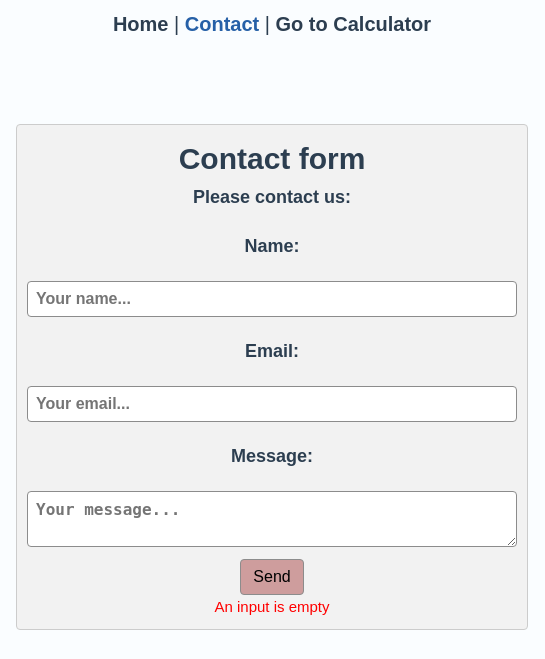
Test: Testing that form cannot send due to various factors › visits the contact view and inputs email on the wrong format -> displays correct error
Expected: the heading "Contact form" is shown, left=179, top=142, right=365, bottom=175
In the field with id "nameInput": point(272, 299) left=27, top=281, right=517, bottom=317, type "My First Post"
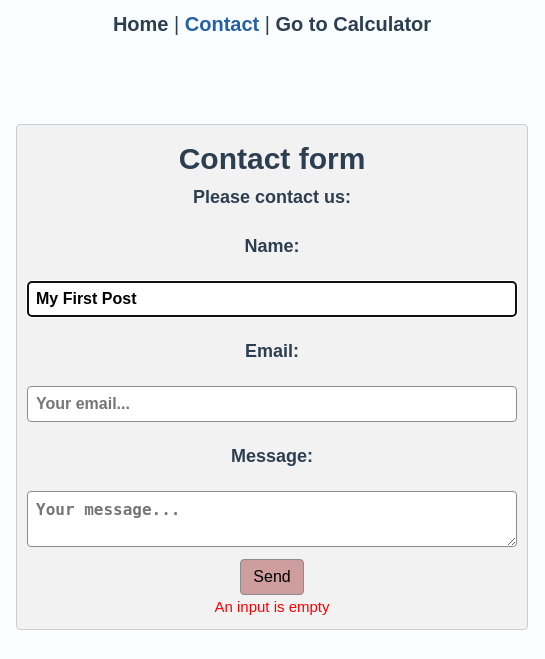
In the field with id "emailInput": point(272, 404) left=27, top=386, right=517, bottom=422, type "example@no"
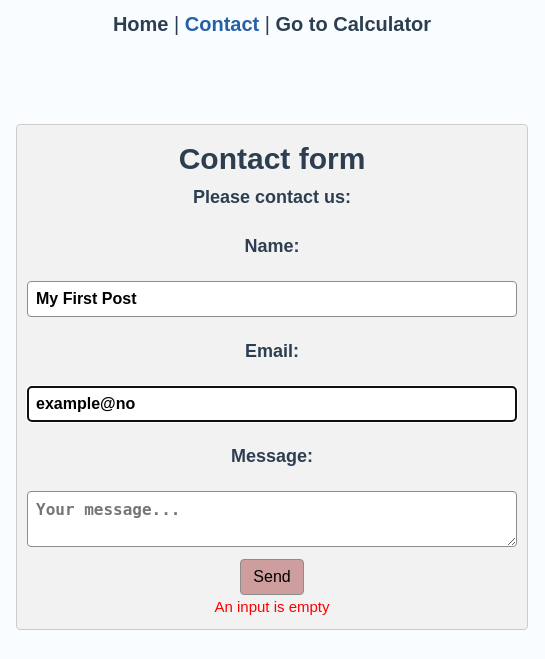
In the text box with id "messageInput": point(272, 519) left=27, top=491, right=517, bottom=547, type "Random message"
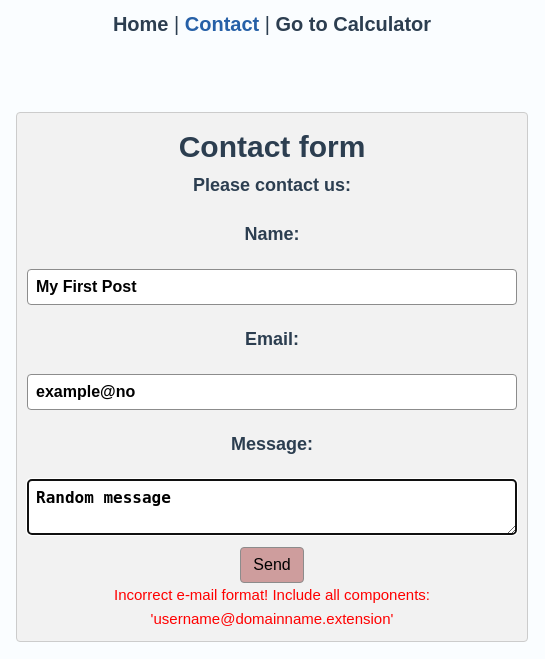
Result: the text with id "excpMessage" reads "Incorrect e-mail format! Include all components: 'username@domainname.extension'" at left=114, top=586, right=430, bottom=627
